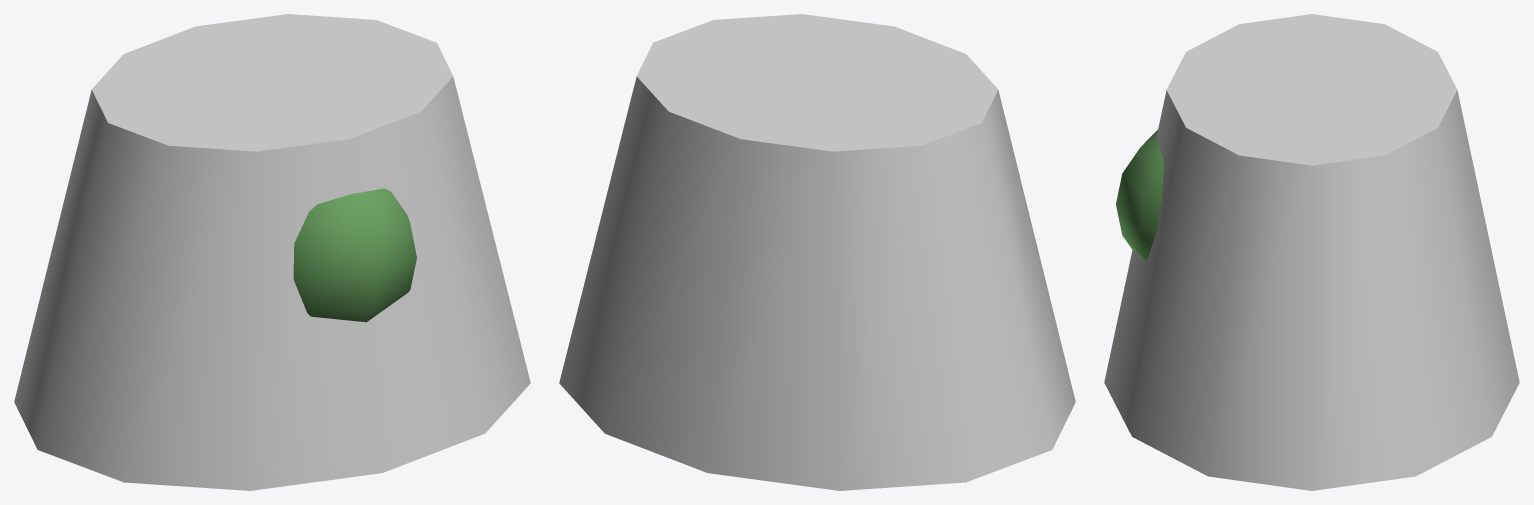
Rendered from skirt.glb.
3 renders of one model, left to right at view 1: azimuth 30°, elevation 25°; view 2: azimuth 150°, elevation 25°; view 3: azimuth 270°, elevation 25°, orthographic. The views are drawn at different scales.
Visible parts, largest first — view 1: Cylinder, Sphere; view 2: Cylinder; view 3: Cylinder, Sphere.
Boxes of the visible parts, x1,y1,x2,y2 form: Cylinder: [14, 14, 530, 490]; Sphere: [293, 188, 416, 322]; Cylinder: [559, 14, 1075, 490]; Cylinder: [1104, 14, 1519, 490]; Sphere: [1116, 130, 1163, 260].
Size of the model in its own units: 1.59 by 1 by 1.29.
